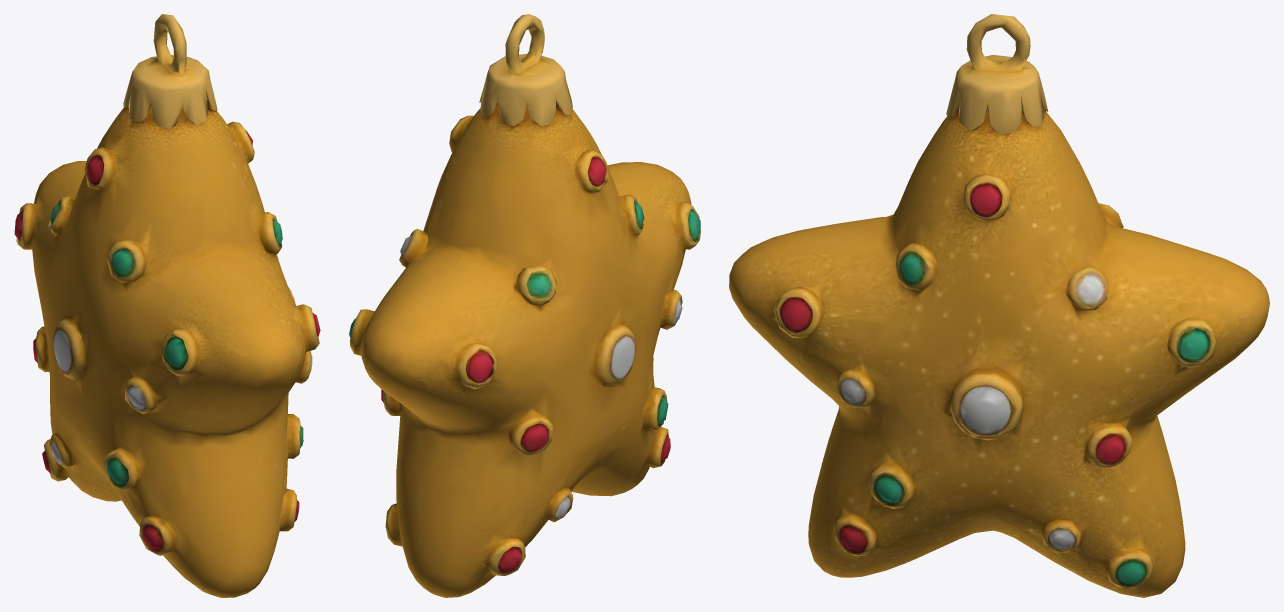
The model's file is orn_star.glb.
3 views of the same model, side by side, from view 1: azimuth 30°, elevation 25°; view 2: azimuth 150°, elevation 25°; view 3: azimuth 270°, elevation 25° (orthographic). The views are drawn at different scales.
Parts seen in each view (by area): view 1: tripo_node_ffcd1d9d-b963-4b22-88af-a2fa16f11d4e; view 2: tripo_node_ffcd1d9d-b963-4b22-88af-a2fa16f11d4e; view 3: tripo_node_ffcd1d9d-b963-4b22-88af-a2fa16f11d4e.
Boxes of the visible parts, x1,y1,x2,y2 form: tripo_node_ffcd1d9d-b963-4b22-88af-a2fa16f11d4e: [14, 14, 320, 597]; tripo_node_ffcd1d9d-b963-4b22-88af-a2fa16f11d4e: [349, 14, 700, 597]; tripo_node_ffcd1d9d-b963-4b22-88af-a2fa16f11d4e: [729, 14, 1269, 597].
Bounding box in the file's own units: 0.434 × 1 × 0.8538.
Materials: 1 (1 with a texture image).
